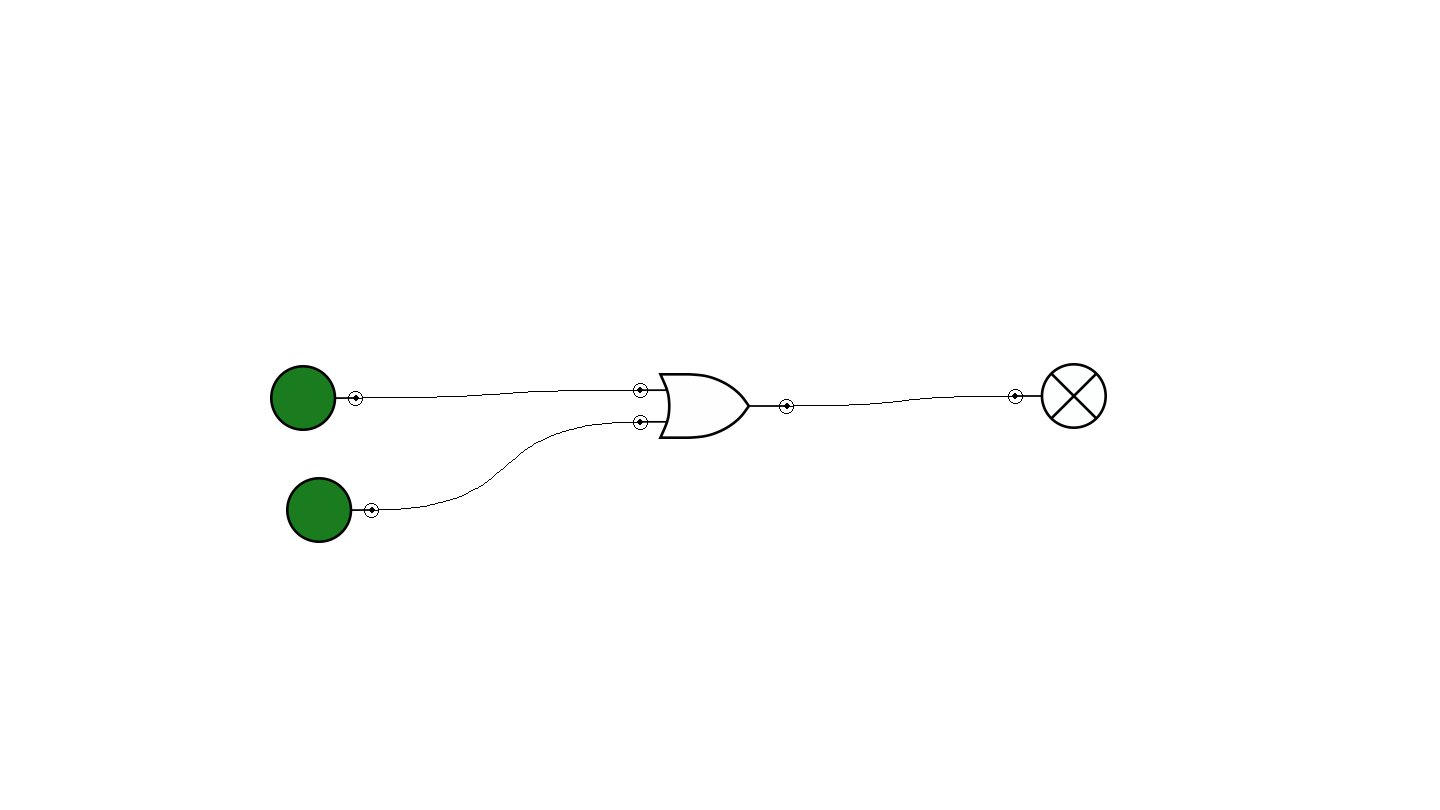bulb: (1008, 363, 1107, 429)
or: (633, 373, 794, 439)
switch_True: (270, 365, 363, 431), (286, 477, 379, 543)
